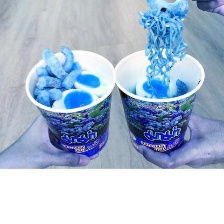paper_cup: (20, 45, 118, 160), (112, 42, 208, 158)
